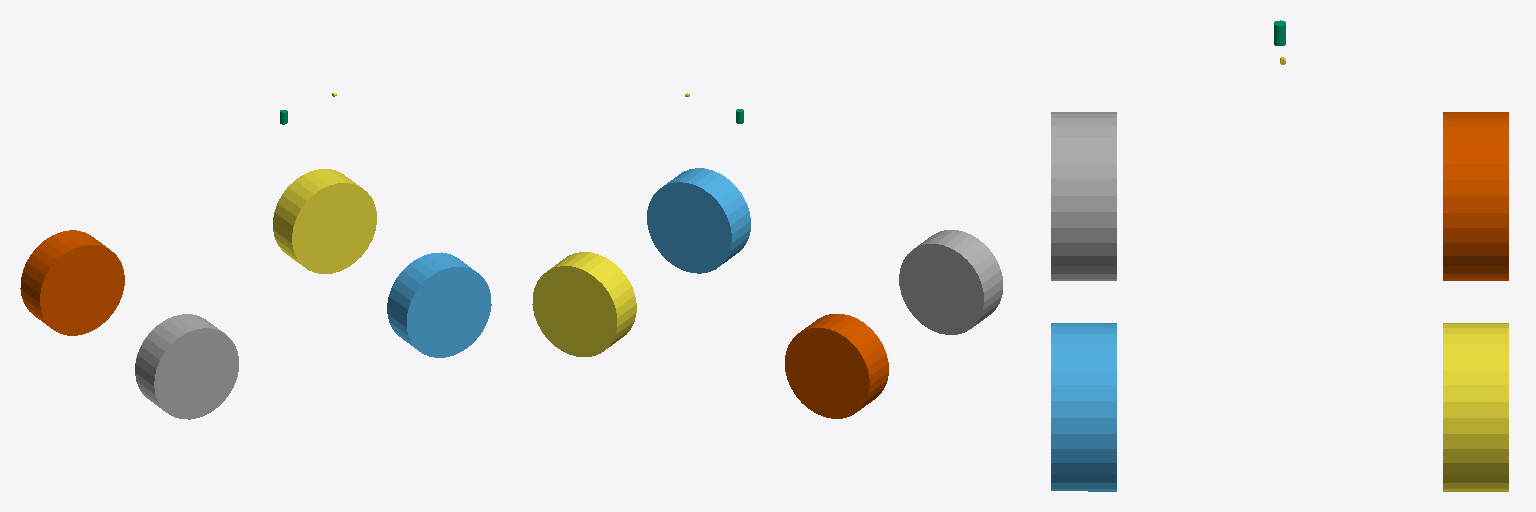
URDF robot description (m2d):
<?xml version="1.0"?>
<robot name="m2d" xmlns:xacro="http://ros.org/wiki/xacro">
  <link name="base_link">
    <visual>
      <origin xyz="0 0 0.0" rpy="1.57 0 -1.57"/>
      <geometry>
        <mesh filename="package://ackerman_pkg/models/M2_P.stl" scale="0.001 0.001 0.001"/>
      </geometry>
    </visual>
    <collision>
      <origin xyz="0 0 0.51" rpy="0 0 0"/>
      <geometry>
        <box size="1.66 0.9 0.55"/>
      </geometry>
    </collision>
  </link>

  <link name="imu"/>

  <joint name="base_link_imu_joint" type="fixed">
    <parent link="base_link"/>
    <child link="imu"/>
    <origin xyz="0.525 0 0.43" rpy="0 0 0"/>
  </joint>
  
  <link name="lidar">
    <visual>
      <origin xyz="0 0 0" rpy="0 0 0"/>
      <geometry>
        <cylinder radius="0.02" length="0.07"/>
      </geometry>
    </visual>
    <collision>
      <origin xyz="0 0 0" rpy="0 0 0"/>
      <geometry>
        <cylinder radius="0.02" length="0.07"/>
      </geometry>
    </collision>
  </link>

  <joint name="base_link_lidar_joint" type="fixed">
    <parent link="base_link"/>
    <child link="lidar"/>
    <origin xyz="0.170 0 0.997" rpy="0 0 0.77"/>
  </joint>

  <link name="Front_Camera">
    <visual>
      <origin xyz="-0.01 0 0" rpy="0 0 0"/>
      <geometry>
        <cylinder radius="0.01" length="0.02"/>
      </geometry>
    </visual>
    <collision>
      <origin xyz="-0.01 0 0" rpy="0 0 0"/>
      <geometry>
        <cylinder radius="0.01" length="0.02"/>
      </geometry>
    </collision>
  </link>
  <joint name="base_link_Front_Camera_joint" type="fixed">
    <parent link="base_link"/>
    <child link="Front_Camera"/>
    <origin xyz="0.48632 0 1.04663" rpy="-1.570796 0.3927 -1.570796"/>
  </joint>

  <joint name="steering_motor_bl" type="revolute">
    <parent link="base_link"/>
    <child link="back left wheel"/>
    <axis xyz="0 0 1"/>
    <limit effort="200" lower="-0.5" upper="0.5" velocity="0.4"/>
    <origin xyz="-0.7725 0.607 0" rpy="0 0 1.571813"/>
  </joint>
  <link name="back left wheel">
    <visual>
      <origin xyz="0 0 0" rpy="3.141593 -1.570793 3.141593"/>
      <geometry>
        <cylinder radius="0.05" length="0.1"/>
      </geometry>
    </visual>
    <collision>
      <origin xyz="0 0 0" rpy="3.141593 -1.570793 3.141593"/>
      <geometry>
        <cylinder radius="0.05" length="0.1"/>
      </geometry>
    </collision>
  </link>

  <joint name="drive_motor_bl" type="continuous">
    <parent link="back left wheel"/>
    <child link="back left wheel_0"/>
    <axis xyz="1 0 0"/>
    <limit effort="250" velocity="27"/>
    <origin xyz="0 0 0" rpy="0.146793 0 0"/>
  </joint>
  <link name="back left wheel_0">
    <visual>
      <origin xyz="0 0 0" rpy="0 1.570796 0"/>
      <geometry>
        <cylinder radius="0.261" length="0.205"/>
      </geometry>
    </visual>
    <collision>
      <origin xyz="0 0 0" rpy="0 1.570796 0"/>
      <geometry>
        <cylinder radius="0.261" length="0.205"/>
      </geometry>
    </collision>
  </link>

  <joint name="steering_motor_br" type="revolute">
    <parent link="base_link"/>
    <child link="back right wheel"/>
    <axis xyz="0 -0.000141 1"/>
    <limit effort="200" lower="-0.5" upper="0.5" velocity="0.4"/>
    <origin xyz="-0.7725 -0.607 0" rpy="-0.000141 0 1.570776"/>
  </joint>
  <link name="back right wheel">
    <visual>
      <origin xyz="0 0 0" rpy="3.141593 -1.570793 3.141593"/>
      <geometry>
        <cylinder radius="0.05" length="0.1"/>
      </geometry>
    </visual>
    <collision>
      <origin xyz="0 0 0" rpy="3.141593 -1.570793 3.141593"/>
      <geometry>
        <cylinder radius="0.05" length="0.1"/>
      </geometry>
    </collision>
  </link>
  <joint name="drive_motor_br" type="continuous">
    <parent link="back right wheel"/>
    <child link="back right wheel_1"/>
    <axis xyz="1 0 0"/>
    <limit effort="250" velocity="27"/>
    <origin xyz="0 0 0" rpy="0.144756 0 0"/>
  </joint>
  <link name="back right wheel_1">
    <visual>
      <origin xyz="0 0 0" rpy="0 1.570796 0"/>
      <geometry>
        <cylinder radius="0.261" length="0.205"/>
      </geometry>
    </visual>
    <collision>
      <origin xyz="0 0 0" rpy="0 1.570796 0"/>
      <geometry>
        <cylinder radius="0.261" length="0.205"/>
      </geometry>
    </collision>
  </link>
  <joint name="steering_motor_fr" type="revolute">
    <parent link="base_link"/>
    <child link="front right wheel"/>
    <axis xyz="0 0 1"/>
    <limit effort="200" lower="-0.5" upper="0.5" velocity="0.4"/>
    <origin xyz="0.7725 -0.607 0" rpy="0 0 1.569235"/>
  </joint>
  <link name="front right wheel">
    <visual>
      <origin xyz="0 0 0" rpy="3.141593 -1.570793 3.141593"/>
      <geometry>
        <cylinder radius="0.05" length="0.1"/>
      </geometry>
    </visual>
    <collision>
      <origin xyz="0 0 0" rpy="3.141593 -1.570793 3.141593"/>
      <geometry>
        <cylinder radius="0.05" length="0.1"/>
      </geometry>
    </collision>
  </link>
  <joint name="drive_motor_fr" type="continuous">
    <parent link="front right wheel"/>
    <child link="front right wheel_2"/>
    <axis xyz="1 0 0"/>
    <limit effort="200" velocity="27"/>
    <origin xyz="0 0 0" rpy="0.67099 0 0"/>
  </joint>
  <link name="front right wheel_2">
    <visual>
      <origin xyz="0 0 0" rpy="0 1.570796 0"/>
      <geometry>
        <cylinder radius="0.261" length="0.205"/>
      </geometry>
    </visual>
    <collision>
      <origin xyz="0 0 0" rpy="0 1.570796 0"/>
      <geometry>
        <cylinder radius="0.261" length="0.205"/>
      </geometry>
    </collision>
  </link>
  <joint name="steering_motor_fl" type="revolute">
    <parent link="base_link"/>
    <child link="front left wheel"/>
    <axis xyz="0 0 1"/>
    <limit effort="200" lower="-0.5" upper="0.5" velocity="0.4"/>
    <origin xyz="0.7725 0.607 0" rpy="0 0 -1.570385"/>
  </joint>
  <link name="front left wheel">
    <visual>
      <origin xyz="0 0 0" rpy="3.141593 -1.570793 3.141593"/>
      <geometry>
        <cylinder radius="0.05" length="0.1"/>
      </geometry>
    </visual>
    <collision>
      <origin xyz="0 0 0" rpy="3.141593 -1.570793 3.141593"/>
      <geometry>
        <cylinder radius="0.05" length="0.1"/>
      </geometry>
    </collision>
  </link>

  <joint name="drive_motor_fl" type="continuous">
    <parent link="front left wheel"/>
    <child link="front left wheel_3"/>
    <axis xyz="-1 0 0"/>
    <limit effort="200" velocity="27"/>
    <origin xyz="0 0 0" rpy="-0.673929 0 0"/>
  </joint>
  <link name="front left wheel_3">
    <visual>
      <origin xyz="0 0 0" rpy="0 1.570796 0"/>
      <geometry>
        <cylinder radius="0.261" length="0.205"/>
      </geometry>
    </visual>
    <collision>
      <origin xyz="0 0 0" rpy="0 1.570796 0"/>
      <geometry>
        <cylinder radius="0.261" length="0.205"/>
      </geometry>
    </collision>
  </link>

</robot>

--- Facts derived from the render (not from the file) ---
Views: 3 orthographic renders of the robot side by side, from view 1: azimuth 30°, elevation 25°; view 2: azimuth 150°, elevation 25°; view 3: azimuth 270°, elevation 25°.
Robot: m2d — 12 links, 11 joints (4 revolute, 4 continuous, 3 fixed); root link base_link; default pose: all joints at 0.
Links seen in each view (by area): view 1: back left wheel_0, back right wheel_1, front right wheel_2, front left wheel_3; view 2: back right wheel_1, back left wheel_0, front left wheel_3, front right wheel_2; view 3: back left wheel_0, back right wheel_1, front left wheel_3, front right wheel_2.
Boxes of the visible links, <box> form: back left wheel_0: <box>20,230,124,335</box>; back right wheel_1: <box>135,314,238,419</box>; front right wheel_2: <box>387,252,491,357</box>; front left wheel_3: <box>273,169,376,273</box>; back right wheel_1: <box>899,230,1002,334</box>; back left wheel_0: <box>785,314,888,418</box>; front left wheel_3: <box>532,252,636,356</box>; front right wheel_2: <box>647,168,750,273</box>; back left wheel_0: <box>1443,112,1508,280</box>; back right wheel_1: <box>1051,112,1116,280</box>; front left wheel_3: <box>1443,323,1508,491</box>; front right wheel_2: <box>1051,323,1116,491</box>.
Bounding box of the posed robot: 2.07 × 1.42 × 1.32 m (x, y, z).
Meshes: 1 distinct files referenced, 0 mesh visuals loaded (none loaded); not drawn: 1 (reference not matched to a file when rendering).
